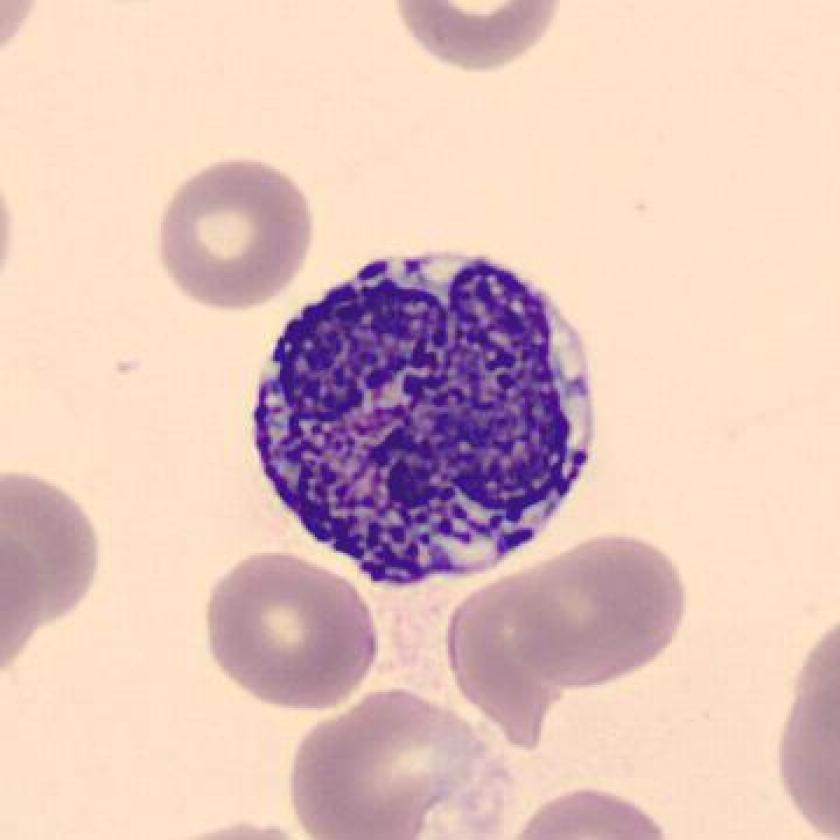basophil: (232, 249, 608, 596)
